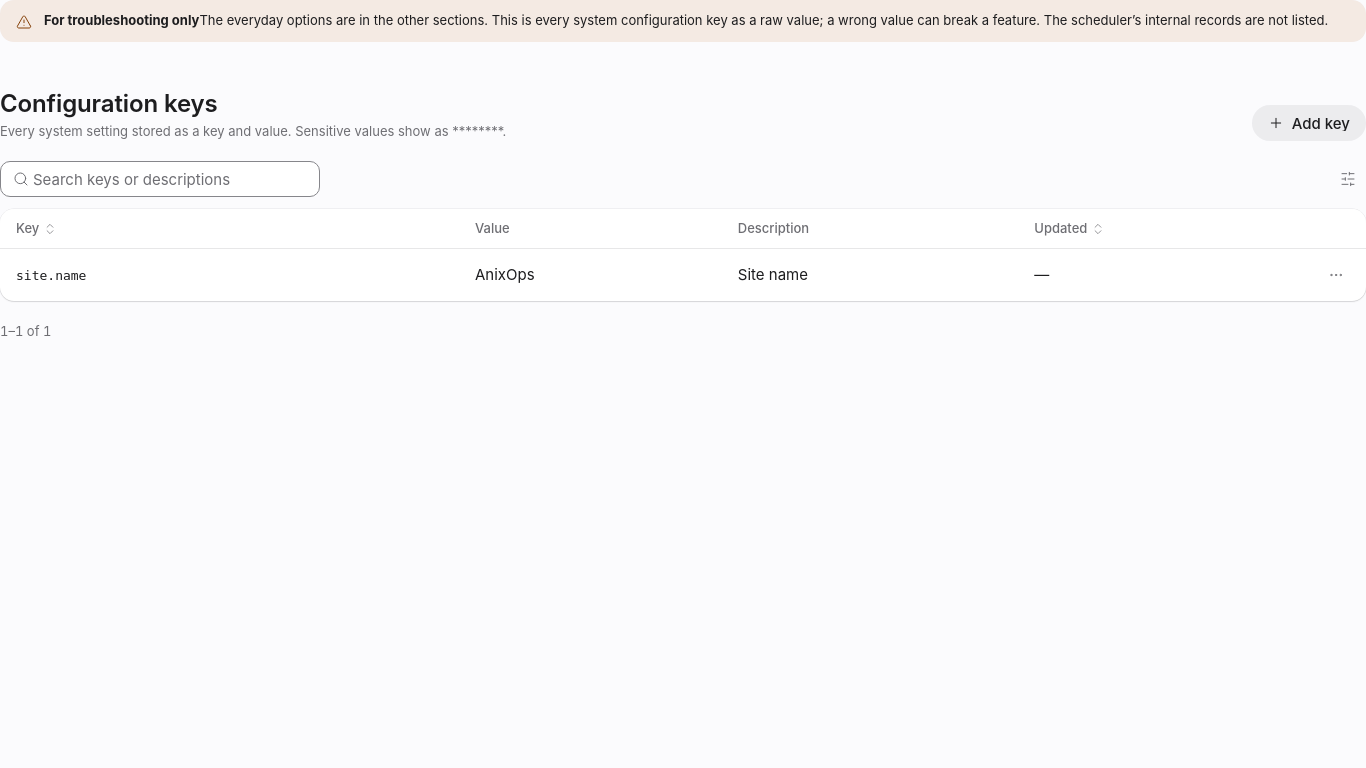
it: System settings dialogs and feedback › asks for a key before adding a config
This screenshot has width=1366, height=768.
Check: the text "site.name" is shown, box [16,268,86,283]
Step 1. Click the button "Add key" → (1309, 123), box [1252,105,1365,141]
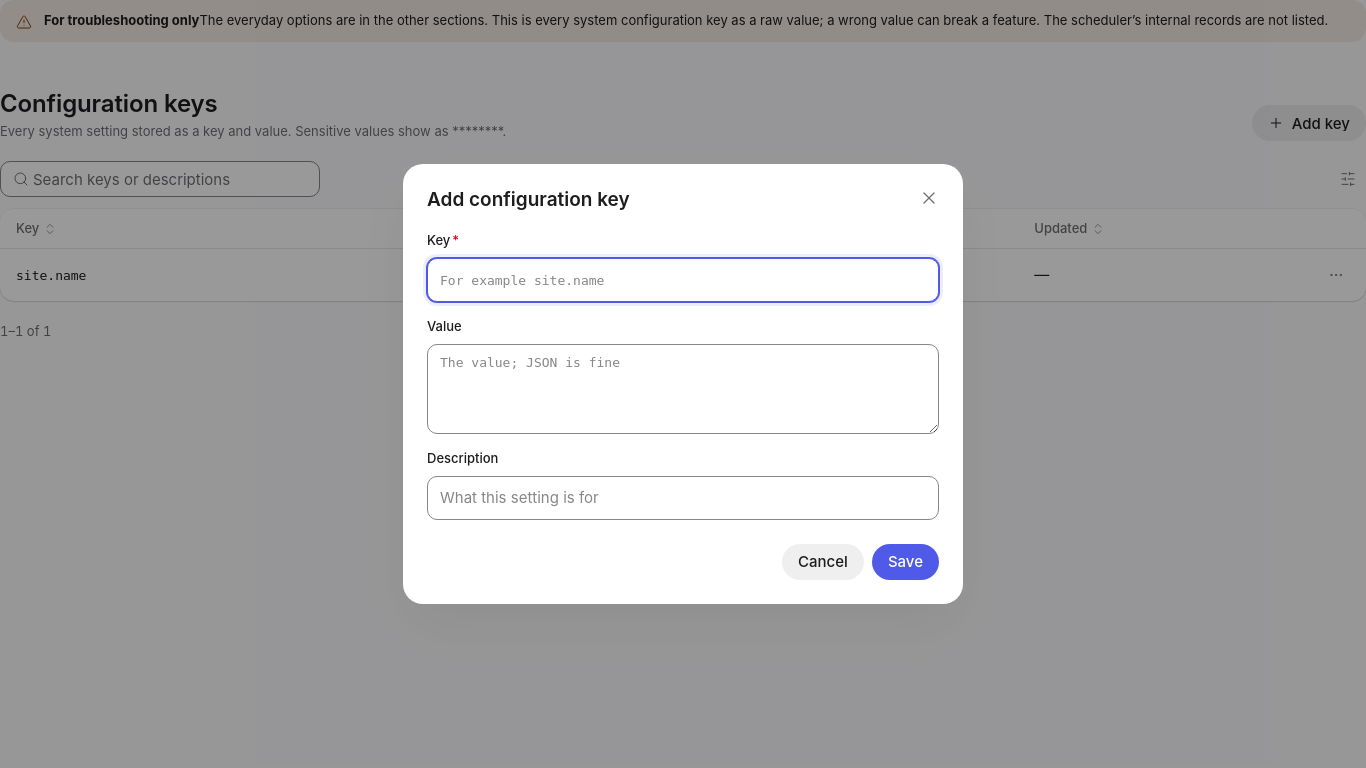
Step 2. Click the button "Save" → (905, 562), box [872,544,939,580]
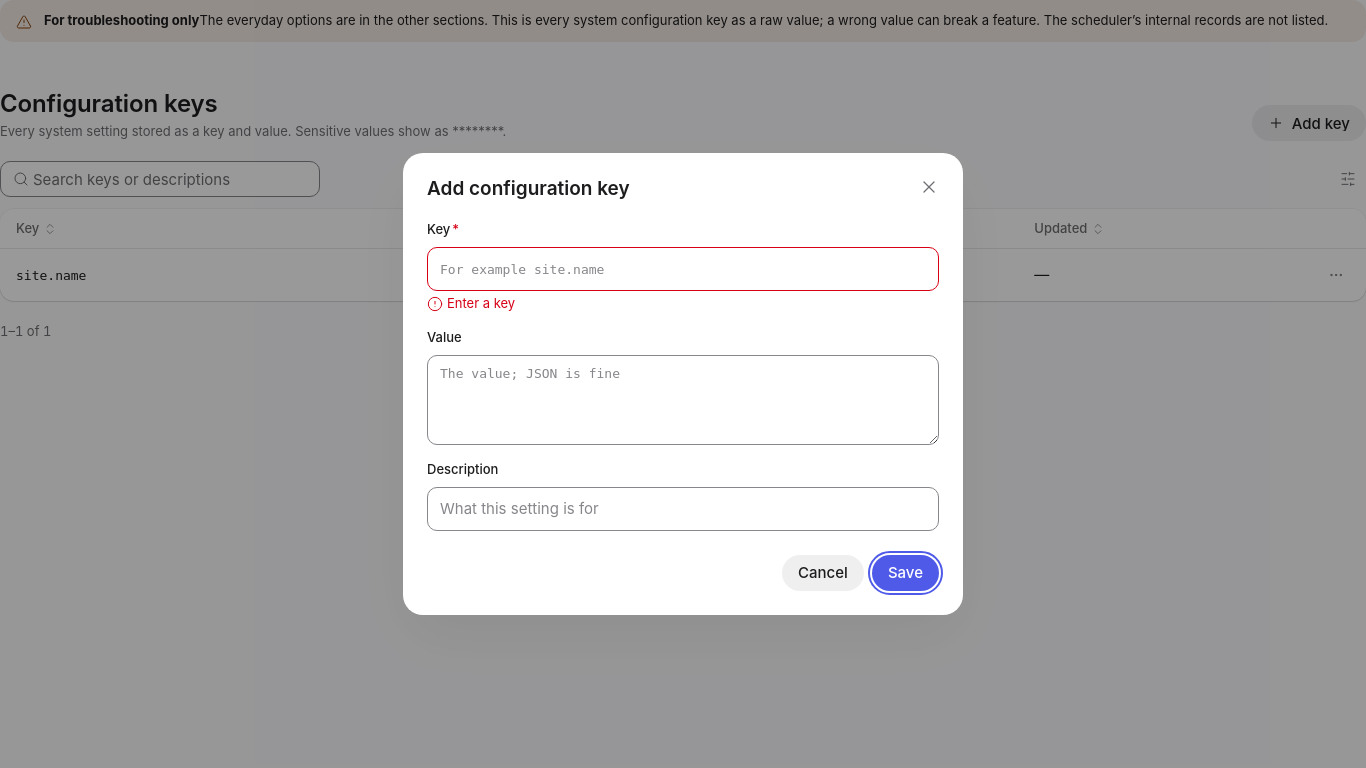
Check: the text "Enter a key" is shown, box [447,295,515,313]
